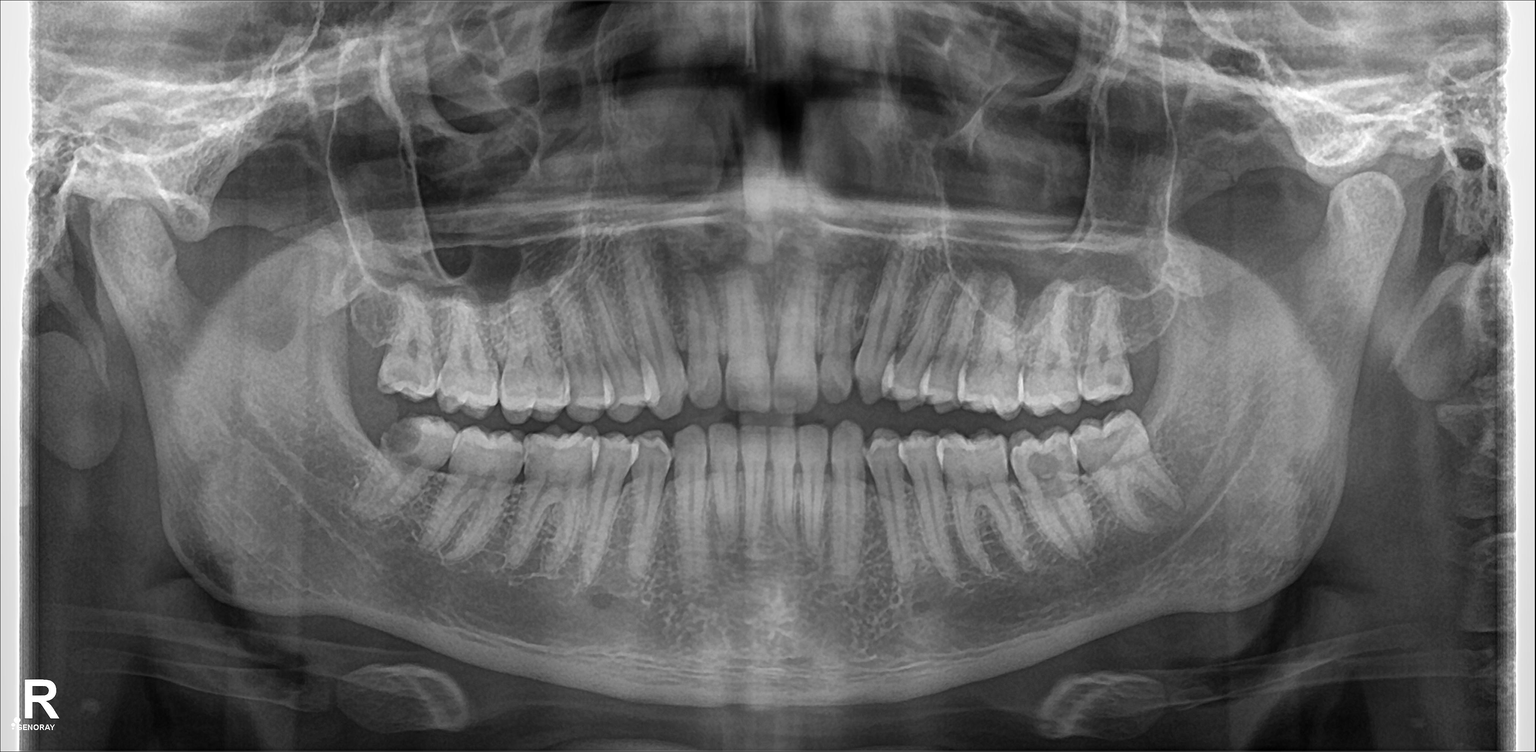Dental Caries: (376, 417, 425, 454), (1034, 456, 1061, 496)
Impacted Third Molar: (358, 419, 451, 505)
Missing Tooth: (343, 274, 393, 384), (1127, 277, 1165, 393)
